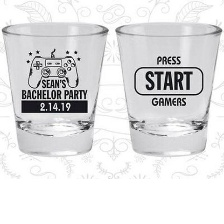glass: (113, 15, 223, 163), (0, 16, 113, 159)
